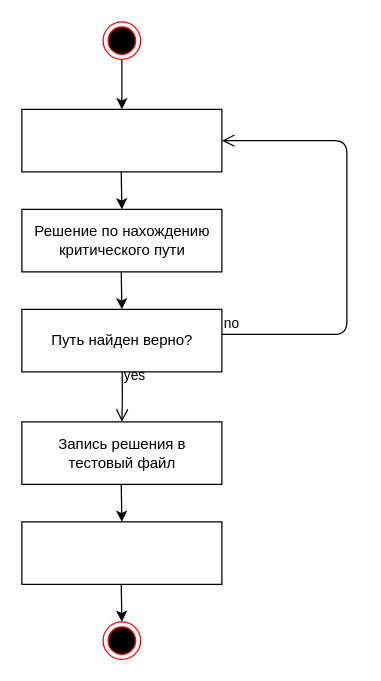
Image size: 381x681. Some labels were removed from this diagram. The box of each missing label's shape, as (x1, y1, x2, y2) in pixels:
Проверка правильности считывания данных: (21, 108, 222, 172)
Просмотр результатов: (21, 521, 222, 584)
